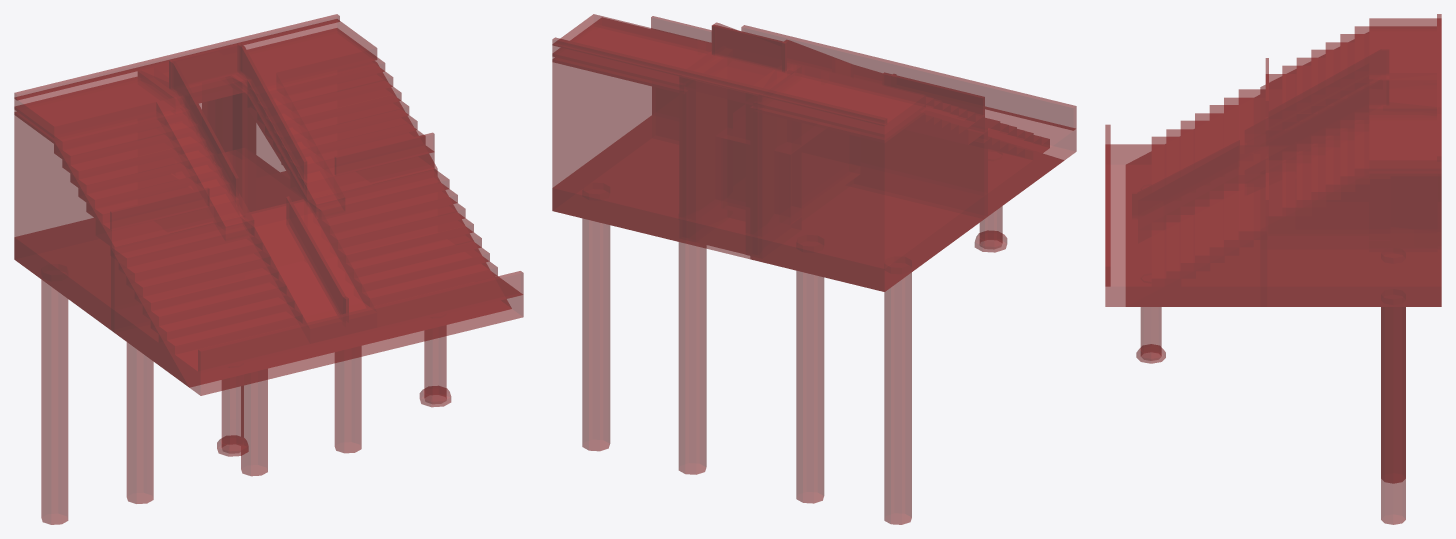
File: SM_Bld_Grandstand_Top_01_Collision.fbx
The picture shows the model from 3 angles, left to right: view 1: azimuth 30°, elevation 25°; view 2: azimuth 150°, elevation 25°; view 3: azimuth 270°, elevation 25°; orthographic projection. The views are drawn at different scales.
Parts seen in each view (by area): view 1: SM_Bld_Grandstand_Top_01_Collision; view 2: SM_Bld_Grandstand_Top_01_Collision; view 3: SM_Bld_Grandstand_Top_01_Collision.
Boxes of the visible parts, x1=… form: SM_Bld_Grandstand_Top_01_Collision: x1=14, y1=14, x2=523, y2=524; SM_Bld_Grandstand_Top_01_Collision: x1=552, y1=14, x2=1076, y2=524; SM_Bld_Grandstand_Top_01_Collision: x1=1105, y1=14, x2=1441, y2=524.
Size of the model in its own units: 1250 by 1602 by 1250.
